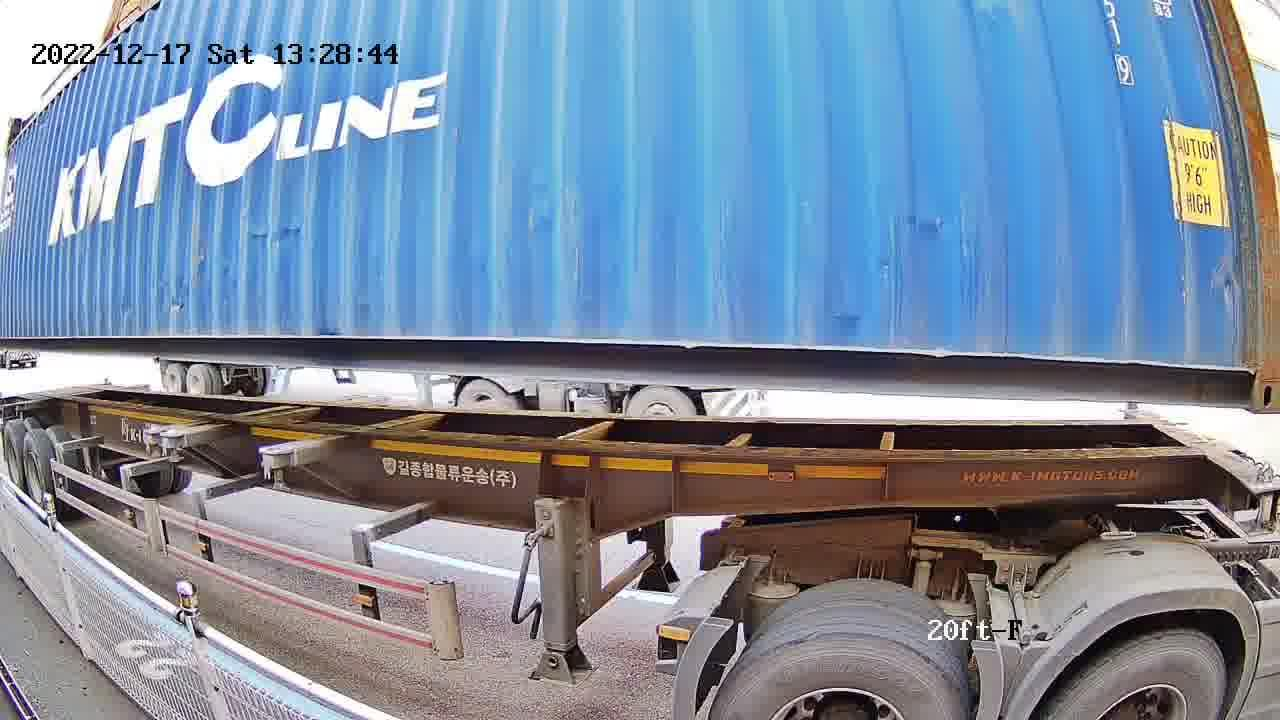Chassis: (1126, 408, 1279, 494)
Cone: (1252, 462, 1279, 531)
Hole_R: (1205, 330, 1279, 413)
Tire: (716, 642, 960, 716), (1053, 640, 1230, 712)
